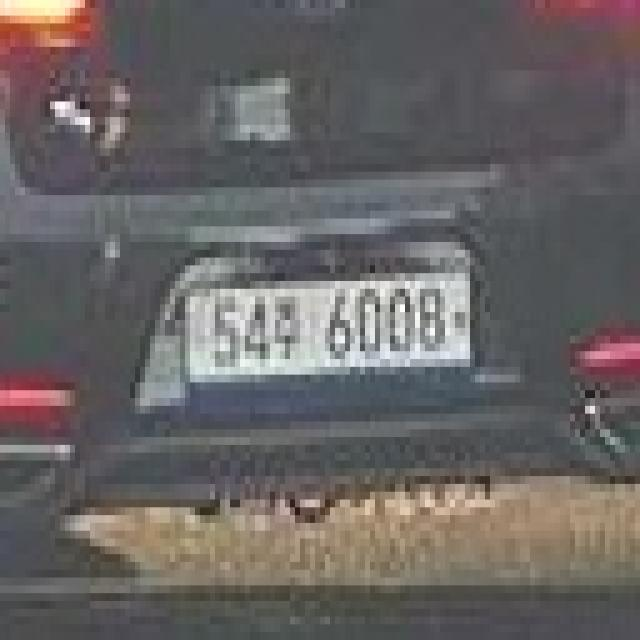0: (385, 281, 420, 351), (350, 281, 380, 359)
4: (240, 281, 270, 367)
5: (205, 281, 240, 367)
6: (325, 281, 360, 367)
8: (415, 273, 455, 359)
ju: (260, 281, 300, 367)
license_plate: (175, 265, 485, 406)
